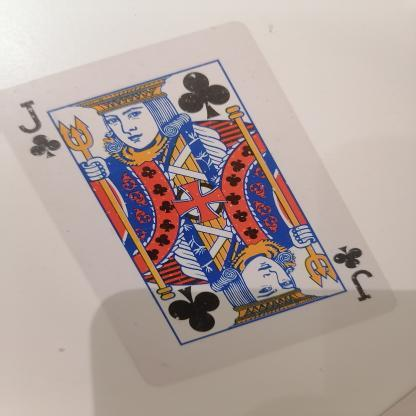JC: (329, 228, 384, 316), (12, 96, 62, 176)
